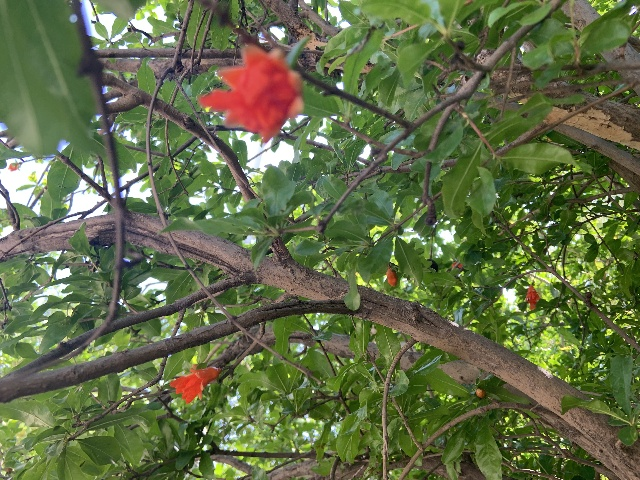bud: (386, 266, 397, 286), (476, 388, 485, 397)
flower: (199, 43, 304, 143), (169, 363, 220, 403), (526, 285, 540, 310)
